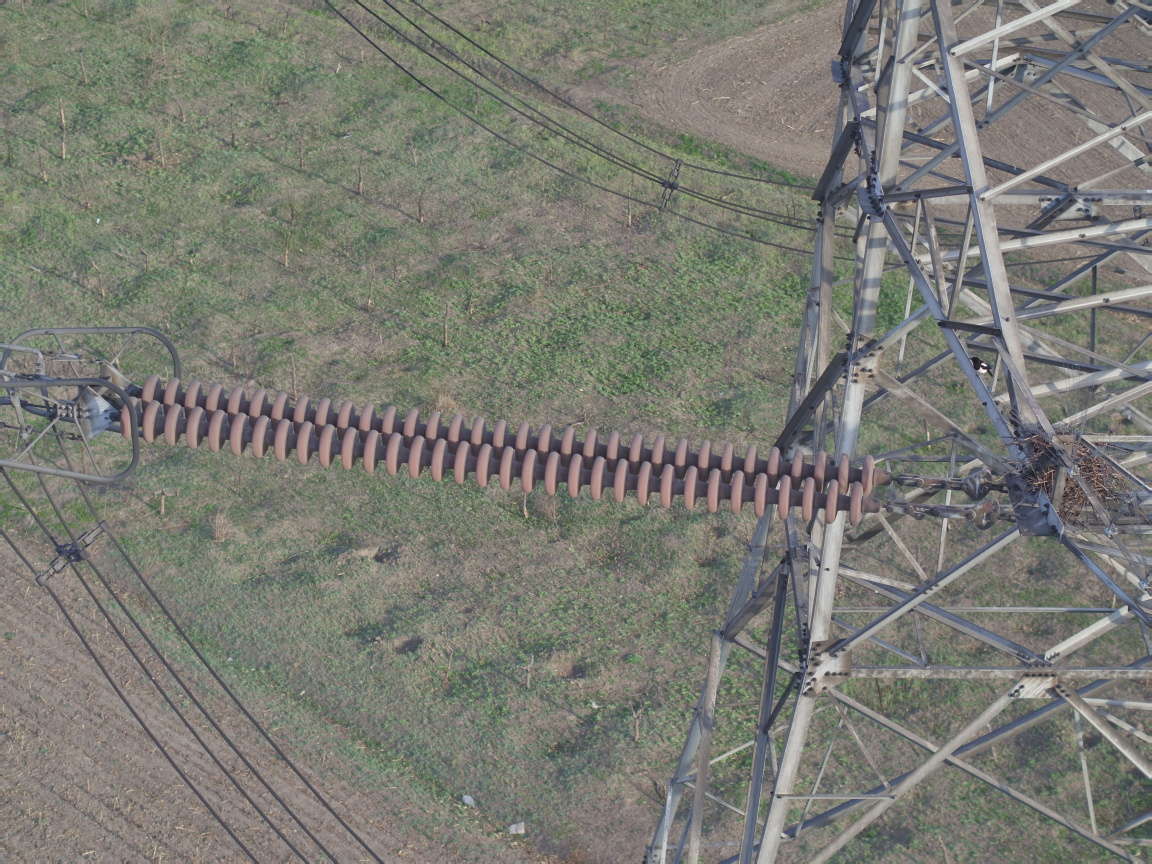insulator: (93, 365, 940, 531)
